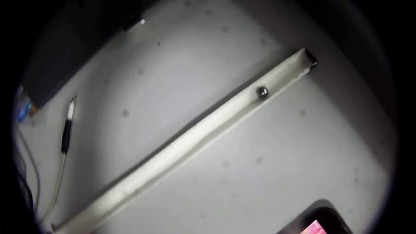gangzhu: (256, 85, 269, 98)
